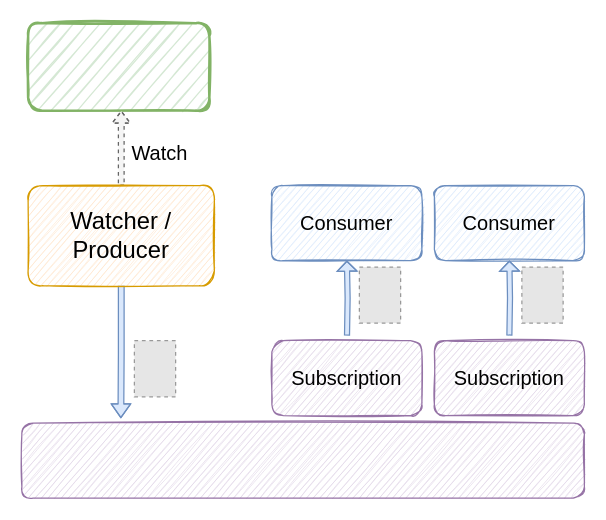
The diagram is 606 pixels wide and 520 high, and some of its shapes have lost their labels. Grey dashed boxes stand in for pictures. The centre of each missing label's shape, as x and y in pixels:
"Message Broker" goes at (x=302, y=460).
"Tool" goes at (x=118, y=66).
